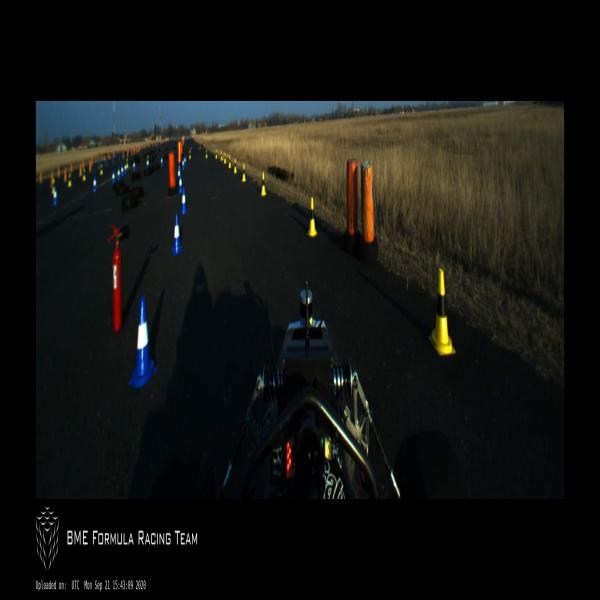blue_cone: (128, 296, 157, 387), (172, 213, 182, 256), (180, 186, 188, 216), (52, 186, 57, 205), (178, 176, 183, 194), (93, 176, 97, 193), (146, 158, 150, 169), (112, 170, 115, 184), (178, 165, 180, 182), (118, 167, 120, 180), (121, 164, 123, 177), (182, 157, 184, 170), (124, 163, 126, 174), (133, 160, 135, 171), (161, 157, 163, 168), (184, 156, 186, 166)
yellow_cone: (429, 269, 455, 355), (307, 197, 317, 236), (260, 172, 266, 196), (242, 163, 246, 182), (51, 179, 55, 194), (68, 173, 72, 187), (234, 157, 237, 173), (82, 169, 86, 181), (228, 155, 231, 168), (100, 164, 103, 174), (224, 151, 226, 164), (189, 148, 191, 160), (220, 150, 222, 161), (216, 149, 218, 159), (206, 148, 208, 158), (126, 159, 128, 168)
